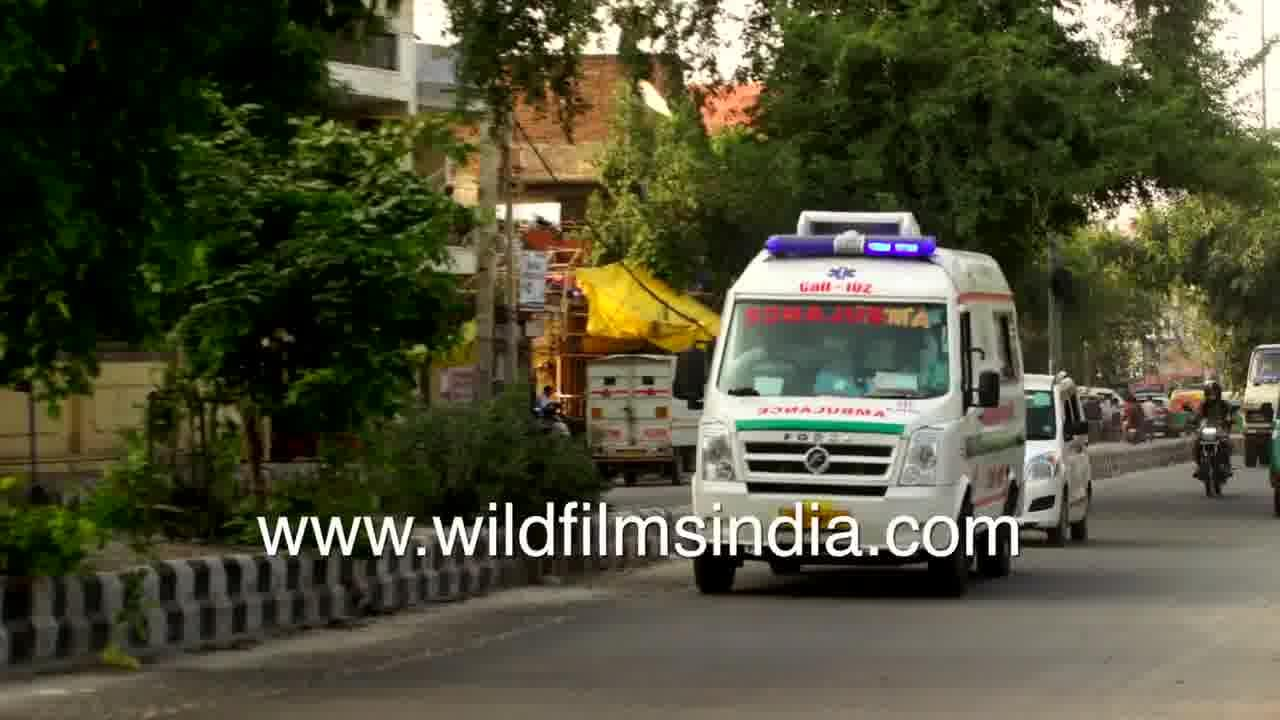AMBULANCE: (682, 204, 1039, 514)
